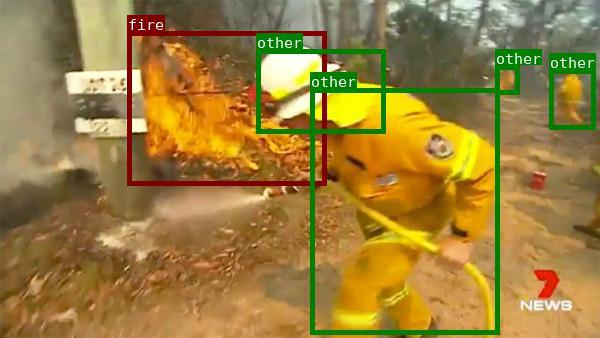fire: (126, 30, 325, 185)
other: (309, 87, 498, 334), (256, 49, 385, 133), (548, 68, 594, 129), (495, 65, 518, 94)
